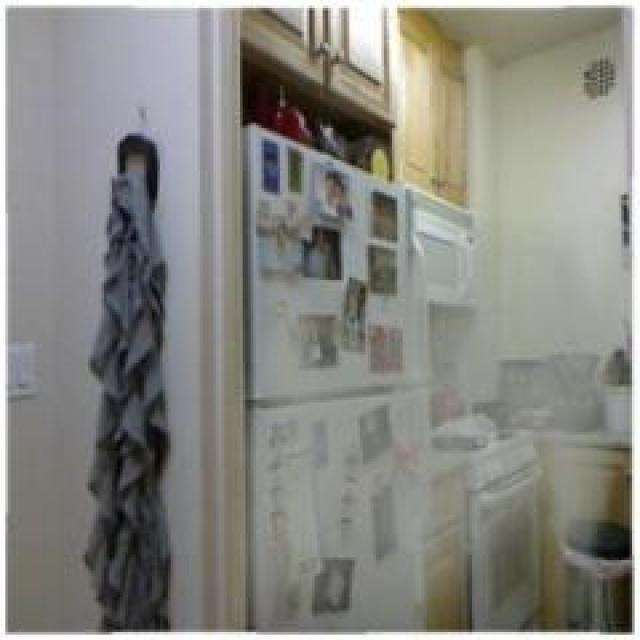smoke: (232, 218, 637, 634)
